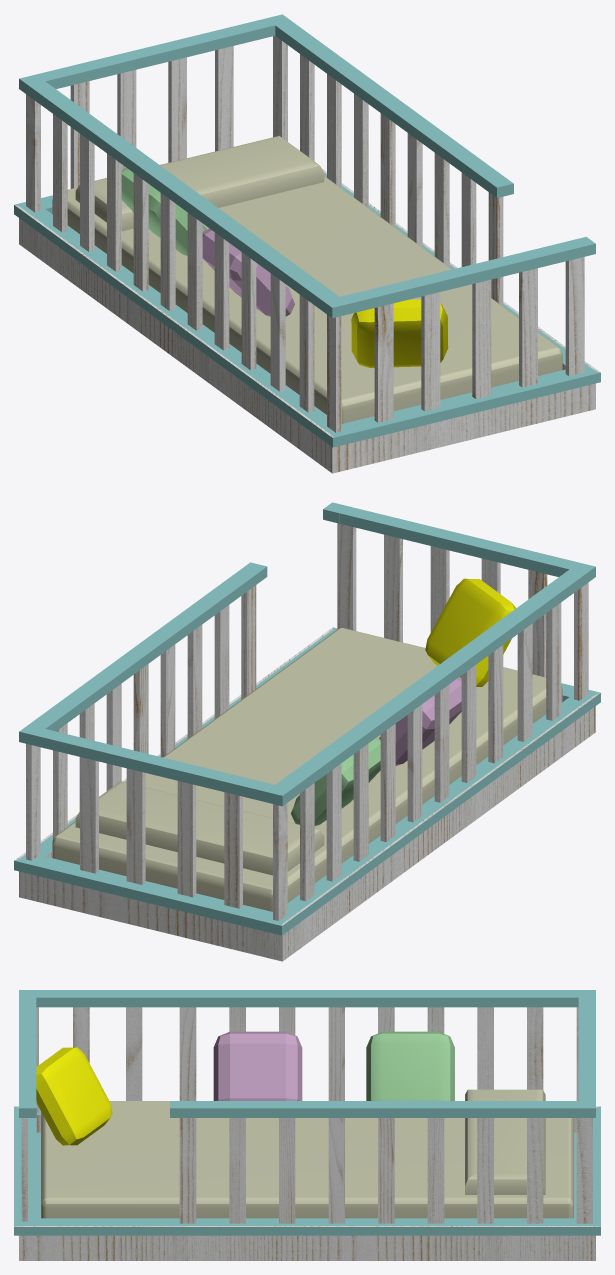
Rendered from Obj_vid_18_llit_infantil_low_poly.fbx.
The picture shows the model from 3 angles, top to bottom: view 1: azimuth 30°, elevation 25°; view 2: azimuth 150°, elevation 25°; view 3: azimuth 270°, elevation 25°; orthographic projection. The views are drawn at different scales.
Visible parts, largest first — view 1: Obj_vid_18_llit_infantil_low_poly; view 2: Obj_vid_18_llit_infantil_low_poly; view 3: Obj_vid_18_llit_infantil_low_poly.
Boxes of the visible parts, x1,y1,x2,y2 form: Obj_vid_18_llit_infantil_low_poly: (14, 14, 600, 473); Obj_vid_18_llit_infantil_low_poly: (14, 502, 600, 961); Obj_vid_18_llit_infantil_low_poly: (14, 990, 600, 1260).
Size of the model in its own units: 1.19 by 0.7017 by 2.45.
